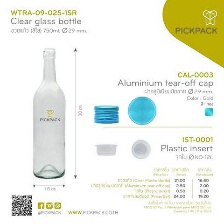bottle: (25, 41, 69, 180)
